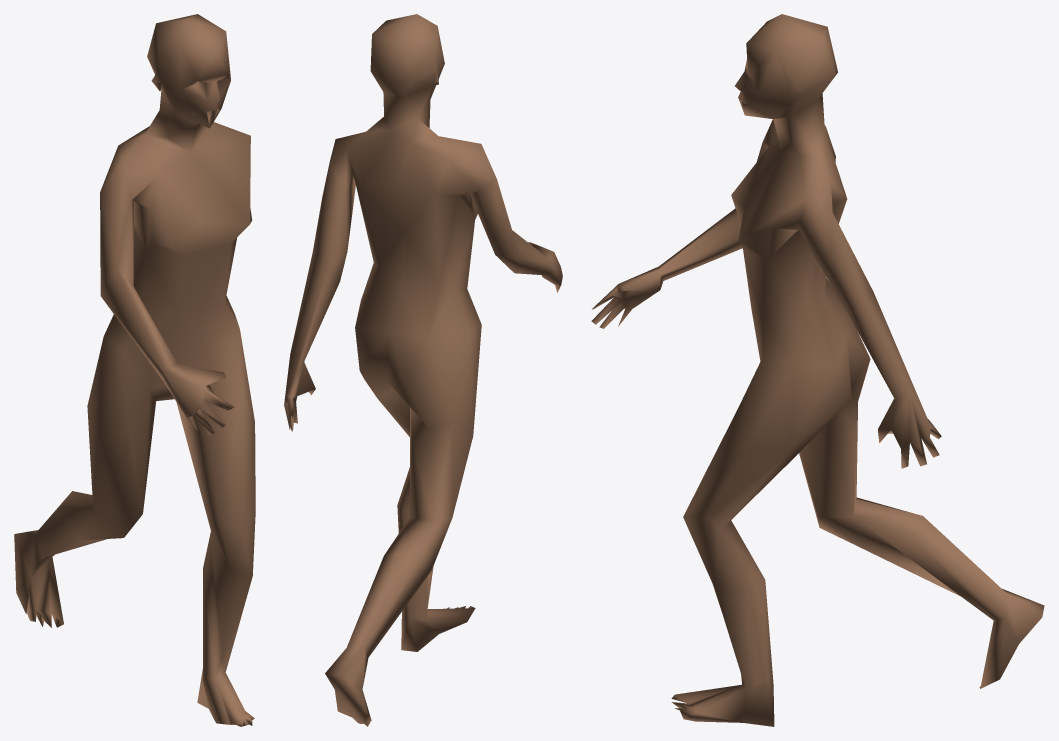
Rendered from obs_000034.obj.
The picture shows the model from 3 angles, left to right: view 1: azimuth 30°, elevation 25°; view 2: azimuth 150°, elevation 25°; view 3: azimuth 270°, elevation 25°; orthographic projection. The views are drawn at different scales.
Visible parts, largest first — view 1: 1-base; view 2: 1-base; view 3: 1-base.
Boxes of the visible parts, box(x1,y1,x2,y2) form: 1-base: box(14, 14, 255, 726); 1-base: box(284, 14, 562, 726); 1-base: box(591, 14, 1044, 726).
Bounding box in the file's own units: 0.3827 × 1.42 × 0.8309.
